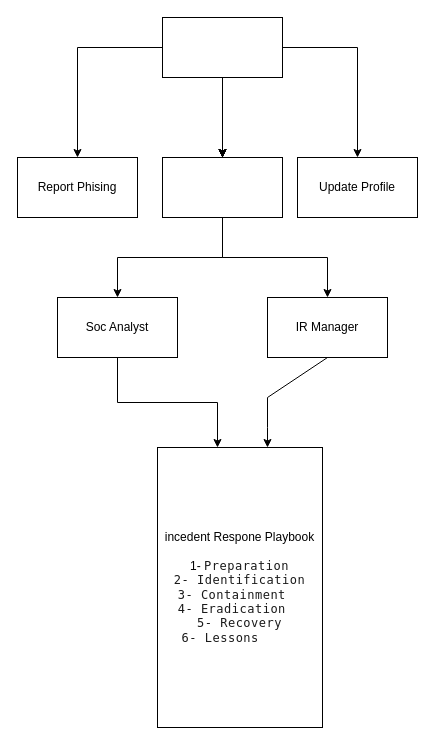
Image size: 435x745. Some labels were removed from this diagram. Here are the shapes that lost their labels. From the top down, the centre of each, then its label:
At point (222, 47): "EMPLOYEE".
At point (222, 187): "View Statues".
